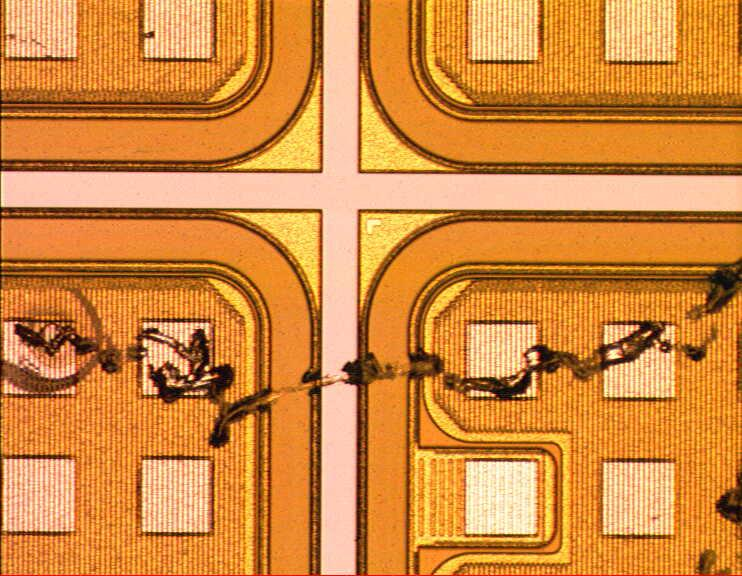SCRATCH: (1, 257, 742, 576)
